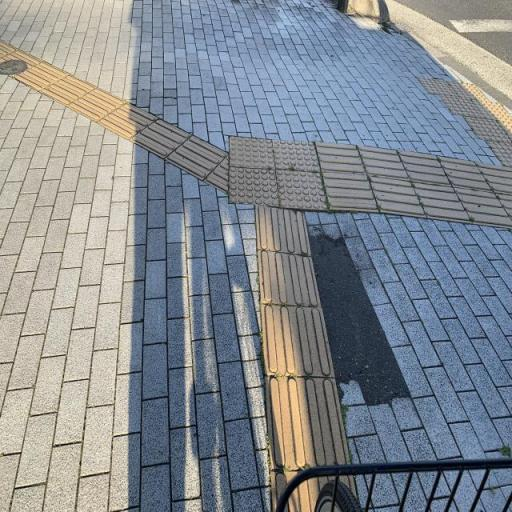dot: (276, 170, 329, 210), (227, 167, 278, 206), (271, 140, 322, 172), (230, 136, 276, 169)
line: (264, 377, 350, 473), (260, 305, 336, 378), (258, 251, 321, 308), (164, 134, 229, 180), (255, 206, 312, 256), (129, 118, 191, 159), (368, 175, 427, 217), (96, 102, 159, 140), (411, 182, 471, 221), (321, 173, 380, 212), (66, 87, 127, 122), (436, 156, 493, 193), (397, 150, 453, 186), (357, 145, 411, 181), (316, 142, 368, 175)
